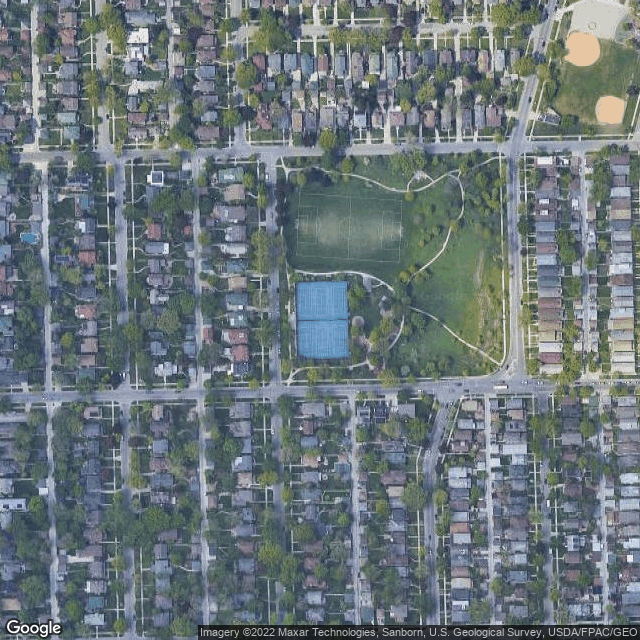Court: (296, 324, 313, 355), (315, 324, 331, 355), (314, 287, 330, 317), (299, 286, 314, 317), (331, 324, 346, 355), (332, 285, 346, 316)
